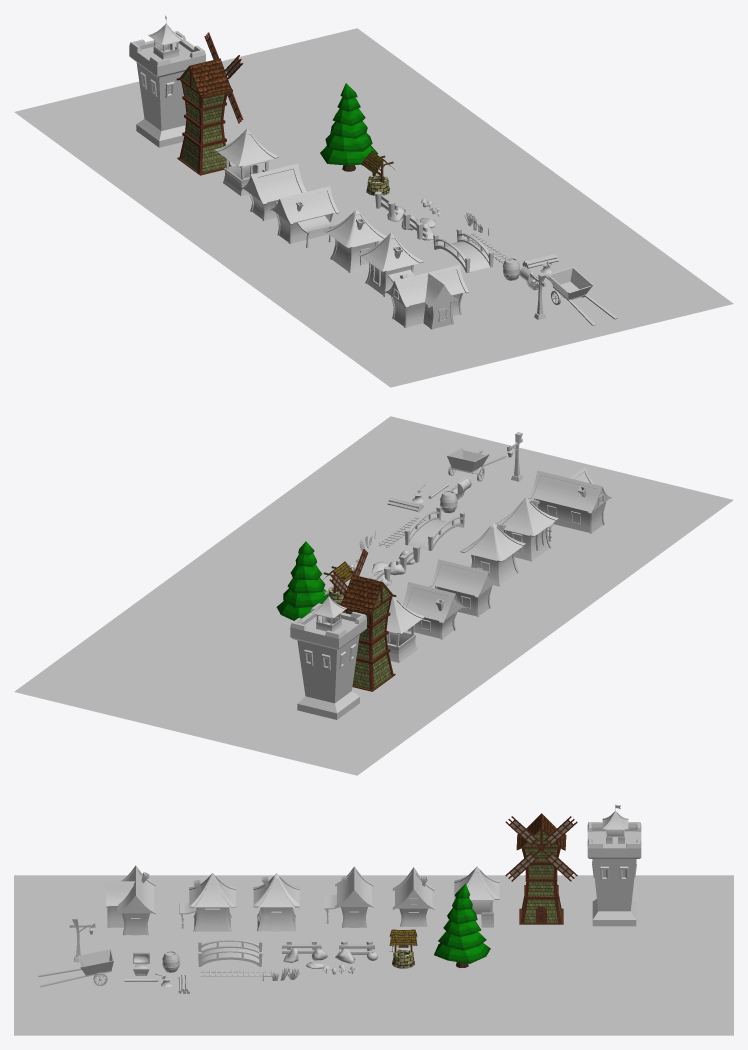
The model's file is fantasy medieval cartoon village pack.FBX.
3 views of the same model, one above another, from view 1: azimuth 30°, elevation 25°; view 2: azimuth 150°, elevation 25°; view 3: azimuth 270°, elevation 25° (orthographic). The views are drawn at different scales.
Parts seen in each view (by area): view 1: grass, watchtowercastle, windmill, house4, house2, spruce, hause3, house, house5, watchtower001, bridge, cart (+2 smaller); view 2: grass, watchtowercastle, windmill, house4, house2, house, spruce, house5, hause3, watchtower001, bridge, cart (+1 smaller); view 3: grass, watchtowercastle, windmill, house4, spruce, house5, hause3, house2, house, watchtower001, windmillpart, bridge (+3 smaller).
Part boxes in pixels (left/top/right/bottom): grass: left=14, top=28, right=733, bottom=387; watchtowercastle: left=129, top=31, right=205, bottom=147; windmill: left=176, top=58, right=232, bottom=175; house4: left=385, top=265, right=468, bottom=329; house2: left=270, top=186, right=339, bottom=247; spruce: left=320, top=83, right=377, bottom=171; hause3: left=324, top=209, right=386, bottom=273; house: left=241, top=163, right=306, bottom=220; house5: left=358, top=232, right=424, bottom=296; watchtower001: left=215, top=129, right=278, bottom=195; bridge: left=433, top=228, right=493, bottom=272; cart: left=548, top=267, right=617, bottom=325; grass: left=14, top=416, right=733, bottom=775; watchtowercastle: left=290, top=603, right=366, bottom=719; windmill: left=340, top=574, right=396, bottom=691; house4: left=528, top=467, right=611, bottom=533; house2: left=429, top=559, right=497, bottom=616; house: left=402, top=582, right=464, bottom=639; spruce: left=276, top=541, right=329, bottom=620; house5: left=495, top=497, right=558, bottom=561; hause3: left=460, top=522, right=525, bottom=586; watchtower001: left=386, top=596, right=424, bottom=662; bridge: left=404, top=506, right=464, bottom=550; cart: left=447, top=448, right=506, bottom=475; grass: left=14, top=875, right=733, bottom=1035; watchtowercastle: left=587, top=822, right=641, bottom=926; windmill: left=516, top=813, right=566, bottom=924; house4: left=105, top=865, right=155, bottom=935; spruce: left=434, top=883, right=490, bottom=967; house5: left=179, top=873, right=236, bottom=931; hause3: left=253, top=873, right=299, bottom=931; house2: left=324, top=866, right=373, bottom=927; house: left=392, top=867, right=434, bottom=926; watchtower001: left=454, top=866, right=499, bottom=927; windmillpart: left=505, top=816, right=577, bottom=881; bridge: left=198, top=939, right=262, bottom=966.
Bounding box in the file's own units: 2793 × 949 × 5308.
